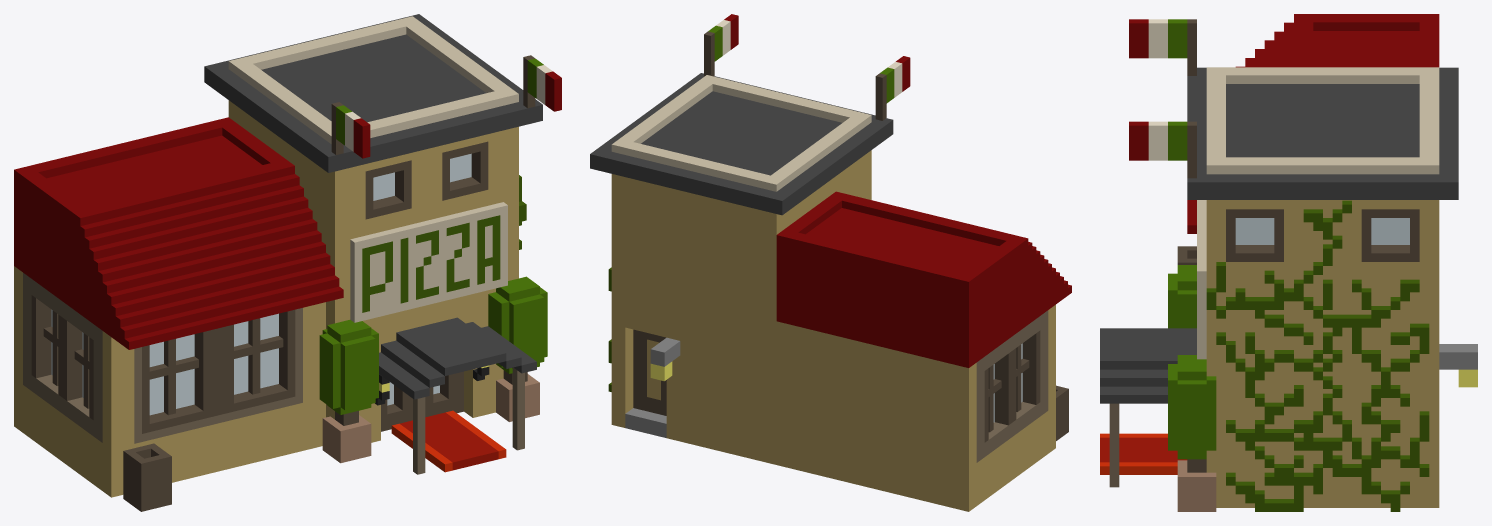
File: pizza2.obj
The picture shows the model from 3 angles, left to right: view 1: azimuth 30°, elevation 25°; view 2: azimuth 150°, elevation 25°; view 3: azimuth 270°, elevation 25°; orthographic projection. The views are drawn at different scales.
Parts seen in each view (by area): view 1: pizza2; view 2: pizza2; view 3: pizza2.
Boxes of the visible parts, <box> form: pizza2: <box>14,14,561,511</box>; pizza2: <box>590,14,1071,511</box>; pizza2: <box>1100,14,1477,511</box>.
Bounding box in the file's own units: 54 × 44 × 39.
Materials: 1 (1 with a texture image).
